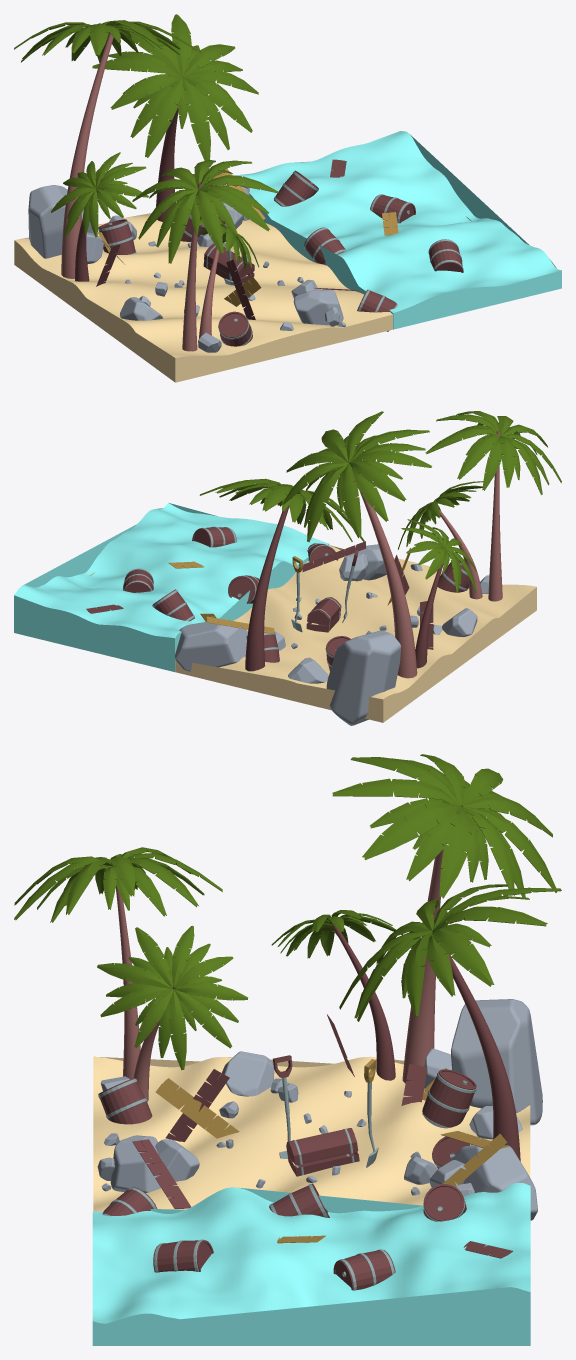
The model's file is island.fbx.
The picture shows the model from 3 angles, top to bottom: view 1: azimuth 30°, elevation 25°; view 2: azimuth 150°, elevation 25°; view 3: azimuth 270°, elevation 25°; orthographic projection. The views are drawn at different scales.
Parts seen in each view (by area): view 1: sea, sand, foliage, foliage.3, foliage.5, foliage.4, rock.010, trunk.4, trunk.3, rock.012, trunk, barrel.001 (+13 smaller); view 2: sea, sand, foliage.4, rock.010, foliage.3, rock.004, foliage, trunk.4, trunk, foliage.5, trunk.3, foliage.2 (+14 smaller); view 3: sea, sand, foliage.4, foliage.2, foliage, rock.010, foliage.3, trunk, trunk.4, rock.004, foliage.5, barrel (+20 smaller).
Part boxes in pixels (box(x1,y1,x2,y2)): sea: box(235, 131, 561, 329); sand: box(14, 213, 471, 382); foliage: box(92, 14, 258, 160); foliage.3: box(132, 159, 278, 263); foliage.5: box(51, 152, 148, 237); foliage.4: box(14, 20, 197, 62); rock.010: box(28, 185, 93, 258); trunk.4: box(61, 33, 113, 278); trunk.3: box(182, 182, 201, 351); rock.012: box(293, 289, 343, 325); trunk: box(156, 103, 179, 221); barrel.001: box(218, 311, 252, 346); sea: box(14, 502, 329, 671); sand: box(89, 545, 536, 722); foliage.4: box(283, 411, 431, 542); rock.010: box(326, 630, 401, 725); foliage.3: box(425, 411, 561, 494); rock.004: box(175, 622, 247, 671); foliage: box(199, 478, 364, 542); trunk.4: box(356, 480, 417, 678); trunk: box(245, 505, 289, 671); foliage.5: box(401, 519, 476, 592); trunk.3: box(488, 431, 502, 601); foliage.2: box(398, 481, 483, 549); sea: box(92, 1182, 530, 1345); sand: box(93, 1056, 530, 1211); foliage.4: box(332, 754, 557, 898); foliage.2: box(97, 925, 248, 1070); foliage: box(339, 884, 561, 1021); rock.010: box(451, 999, 542, 1125); foliage.3: box(14, 847, 222, 922); trunk: box(445, 953, 520, 1161); trunk.4: box(402, 844, 444, 1083); rock.004: box(451, 1145, 537, 1220); foliage.5: box(271, 910, 403, 958); barrel: box(422, 1069, 476, 1128).
Size of what is drawn, in the model's own units: 1025 by 651 by 875.
